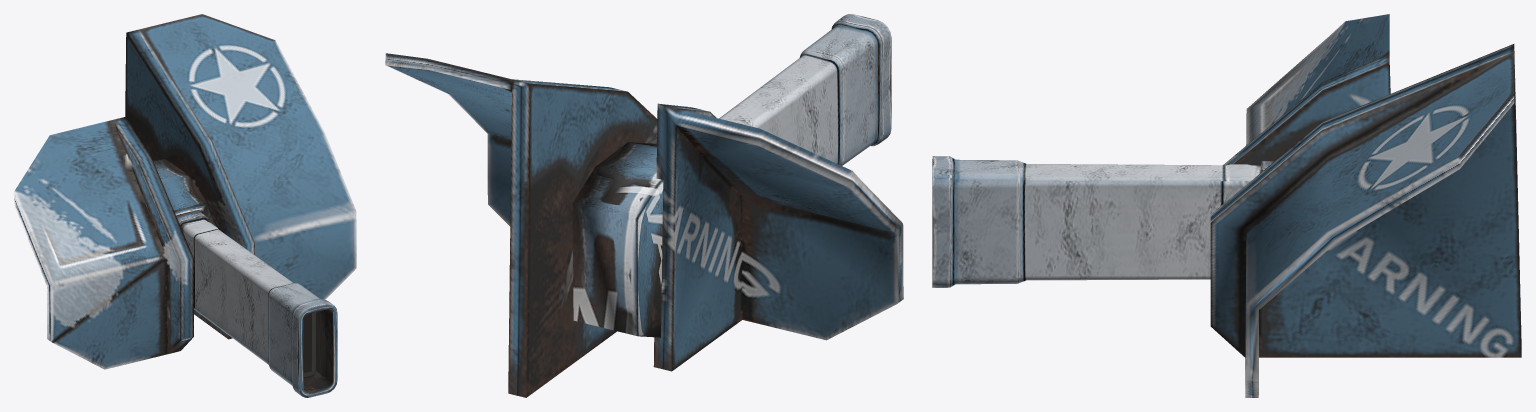
File: BlastTurret.fbx
3 renders of one model, left to right at view 1: azimuth 30°, elevation 25°; view 2: azimuth 150°, elevation 25°; view 3: azimuth 270°, elevation 25°, orthographic. The views are drawn at different scales.
Parts seen in each view (by area): view 1: BlastTurret, BlastGun; view 2: BlastTurret, BlastGun; view 3: BlastTurret, BlastGun.
Part boxes in pixels (box(x1,y1,x2,y2)): BlastTurret: box(14, 14, 356, 369); BlastGun: box(153, 159, 337, 397); BlastTurret: box(385, 53, 903, 397); BlastGun: box(572, 14, 891, 337); BlastTurret: box(1210, 14, 1521, 397); BlastGun: box(932, 156, 1274, 287).
Bounding box in the file's own units: 1.91 × 1.39 × 2.43.
Materials: 1 (1 with a texture image).
